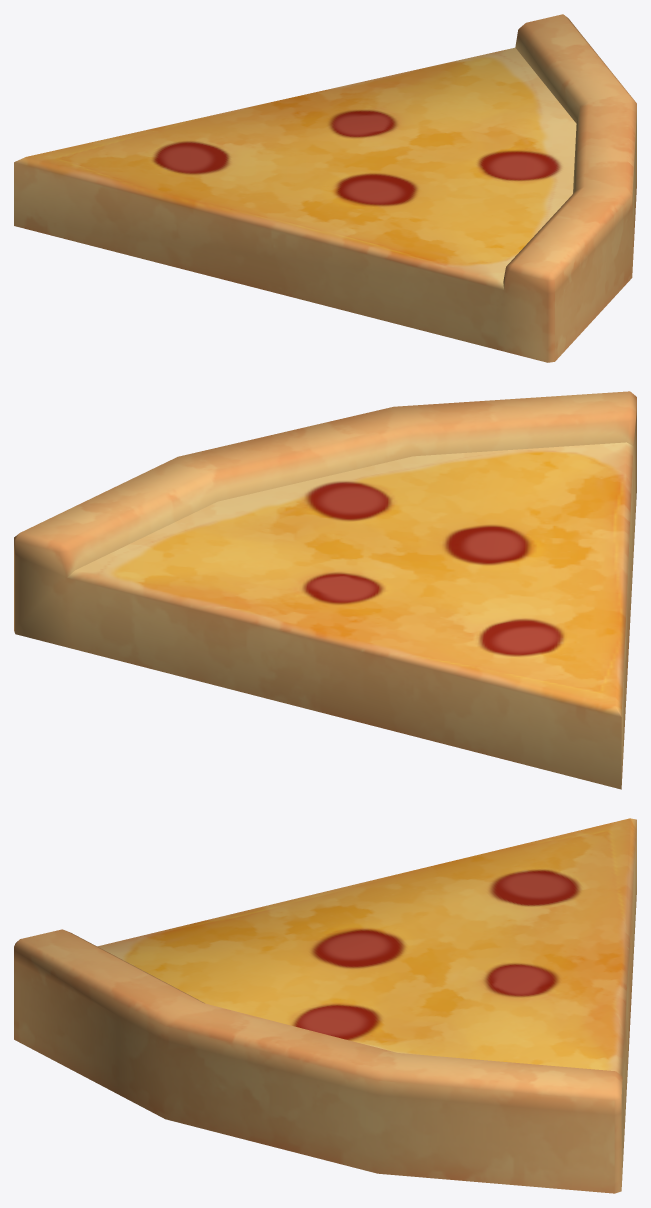
The model's file is PizzaSlice5.fbx.
3 renders of one model, top to bottom at view 1: azimuth 30°, elevation 25°; view 2: azimuth 150°, elevation 25°; view 3: azimuth 270°, elevation 25°, orthographic. The views are drawn at different scales.
Visible parts, largest first — view 1: PizzaSlice5; view 2: PizzaSlice5; view 3: PizzaSlice5.
Part boxes in pixels (x1=…): PizzaSlice5: x1=14, y1=14, x2=636, y2=362; PizzaSlice5: x1=14, y1=391, x2=636, y2=789; PizzaSlice5: x1=14, y1=818, x2=636, y2=1193.
Size of the model in its own units: 99.79 by 15.28 by 87.08.
1 material, 1 textured.
